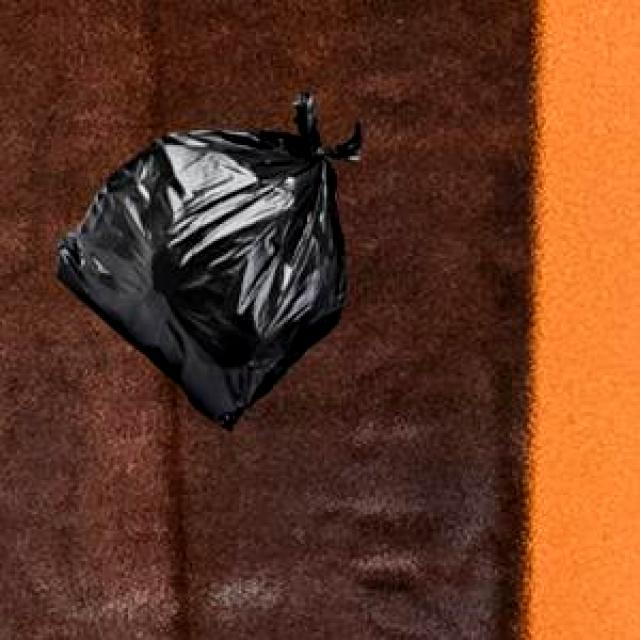Garbage_Bag: (54, 89, 360, 428)
